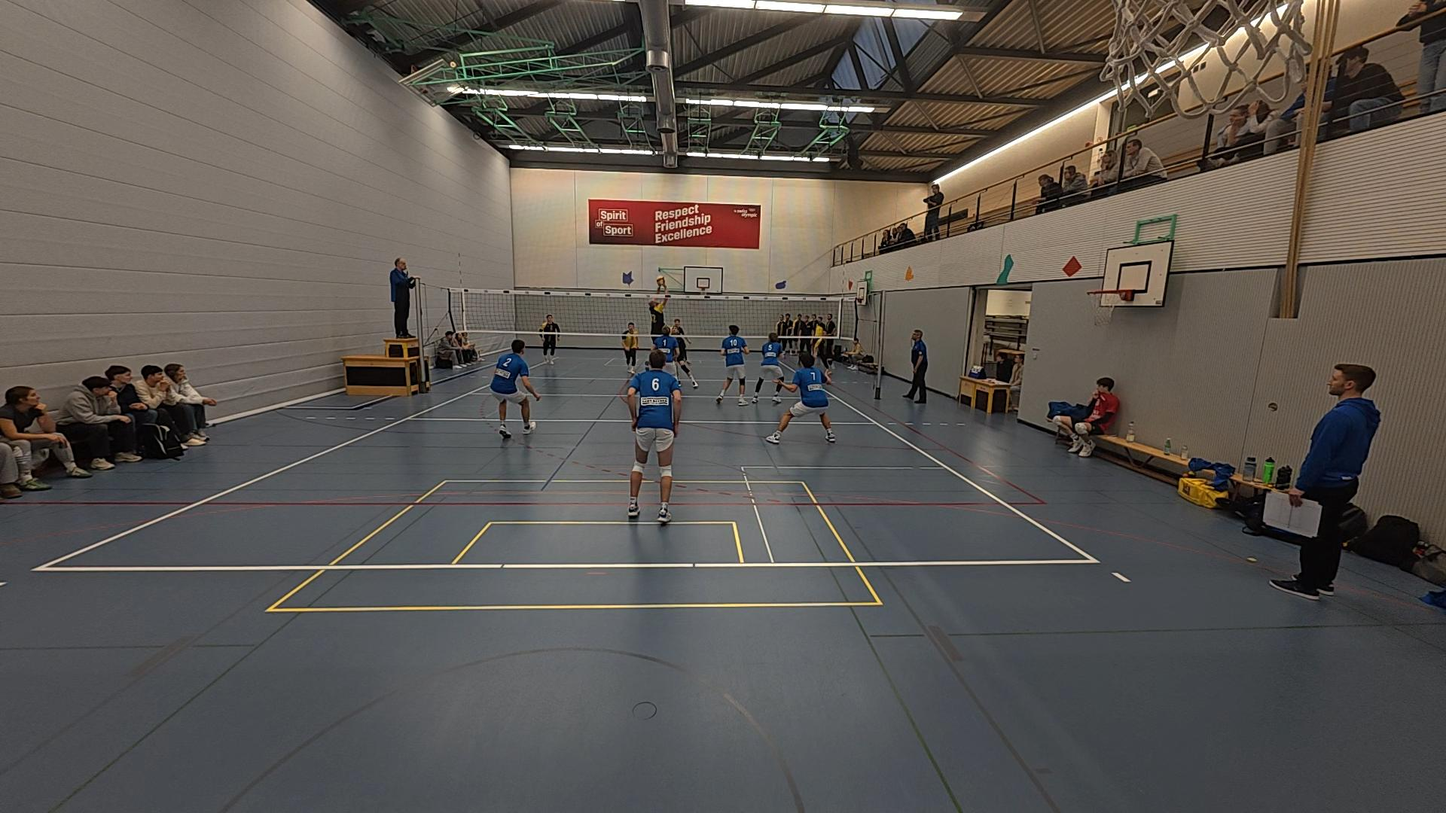Player: (625, 351, 683, 525), (766, 353, 835, 444), (490, 340, 541, 439), (714, 325, 753, 406), (667, 318, 699, 390), (758, 327, 787, 397), (811, 329, 838, 385), (537, 313, 562, 367), (621, 320, 642, 376), (673, 316, 693, 366)
Set: (648, 274, 671, 352)
ball: (902, 264, 916, 281), (655, 274, 667, 287)
